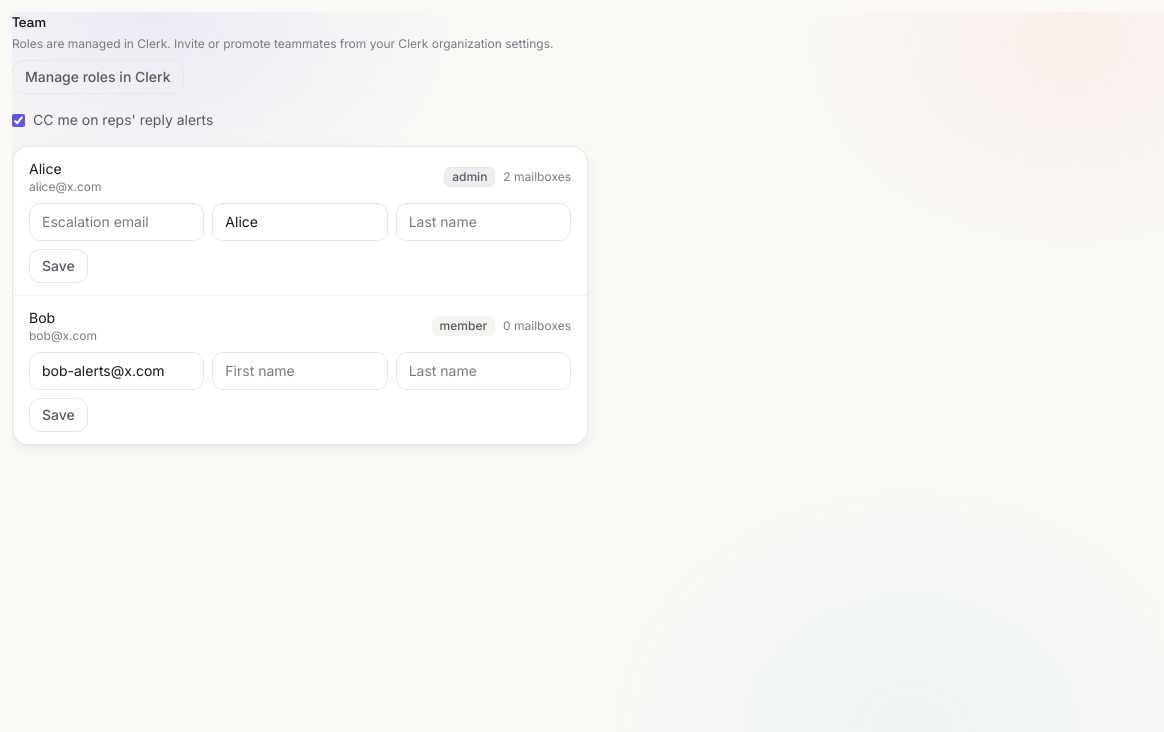
it: TeamSection › reverts the toggle and shows an alert when the PATCH fails
Click the checkbox at coordinates (18, 120), box [12,114,25,126]
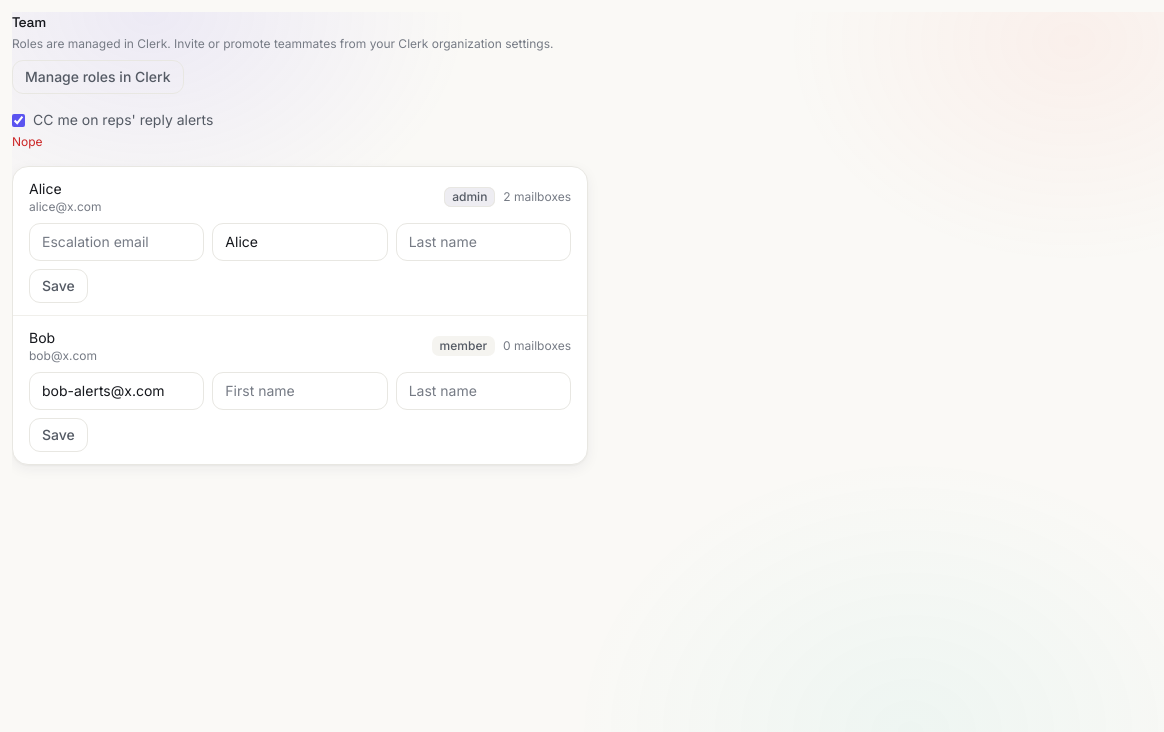
Expected: the message reads "Nope", [12,134,43,149]
